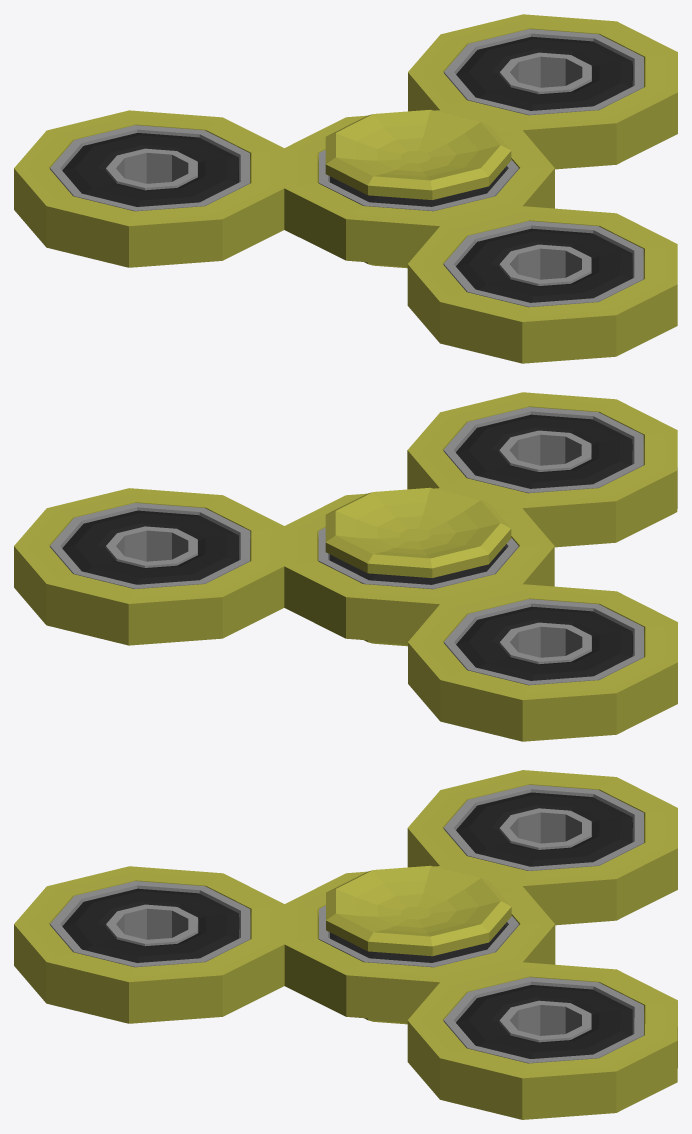
The model's file is Spinner by Hennadiy Kyseliov - f_NVr_pBHWx.glb.
3 views of the same model, one above another, from view 1: azimuth 30°, elevation 25°; view 2: azimuth 150°, elevation 25°; view 3: azimuth 270°, elevation 25° (orthographic).
Visible parts, largest first — view 1: Circle; view 2: Circle; view 3: Circle.
Boxes of the visible parts, bbox=[...] form: Circle: bbox=[14, 14, 677, 363]; Circle: bbox=[14, 392, 677, 741]; Circle: bbox=[14, 770, 677, 1119].
Size of the model in its own units: 5.24 by 0.7089 by 4.77.
